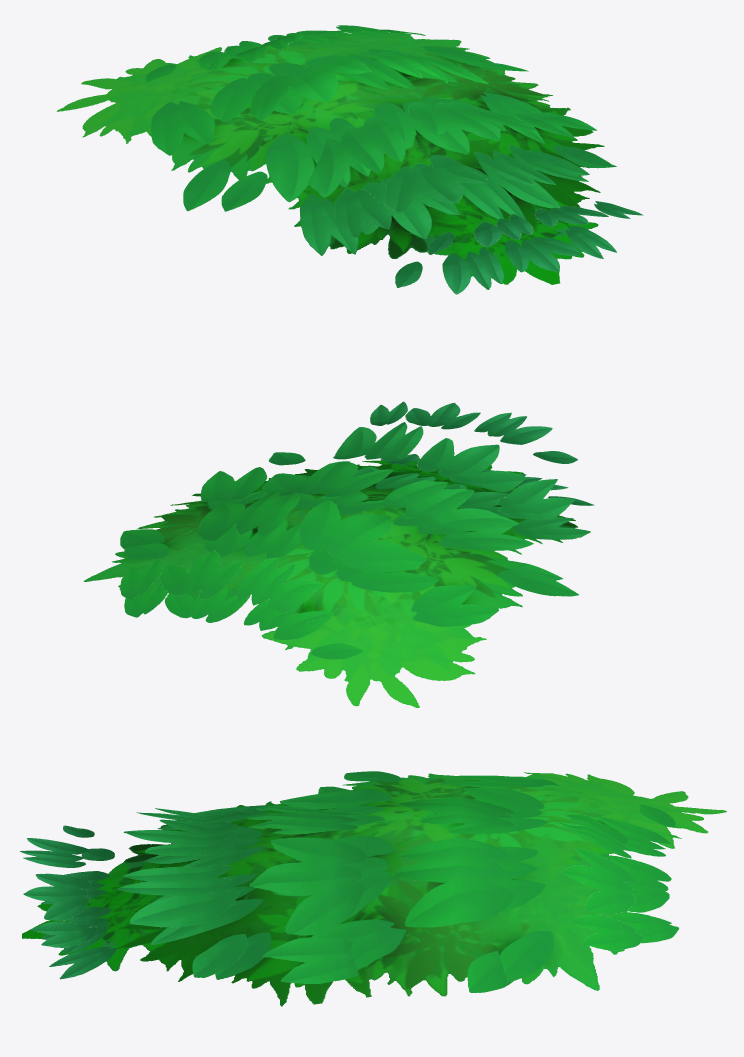
File: M_végétation_1.FBX
3 views of the same model, one above another, from view 1: azimuth 30°, elevation 25°; view 2: azimuth 150°, elevation 25°; view 3: azimuth 270°, elevation 25° (orthographic). The views are drawn at different scales.
Parts seen in each view (by area): view 1: Plane194, Plane196; view 2: Plane194, Plane196; view 3: Plane194, Plane196.
Part boxes in pixels (left/top/right/bottom): Plane194: left=57, top=25, right=616, bottom=294; Plane196: left=207, top=29, right=643, bottom=254; Plane194: left=83, top=454, right=594, bottom=707; Plane196: left=120, top=401, right=577, bottom=623; Plane194: left=22, top=771, right=726, bottom=1006; Plane196: left=20, top=786, right=643, bottom=992.
Size of the model in its own units: 576 by 140 by 746.
